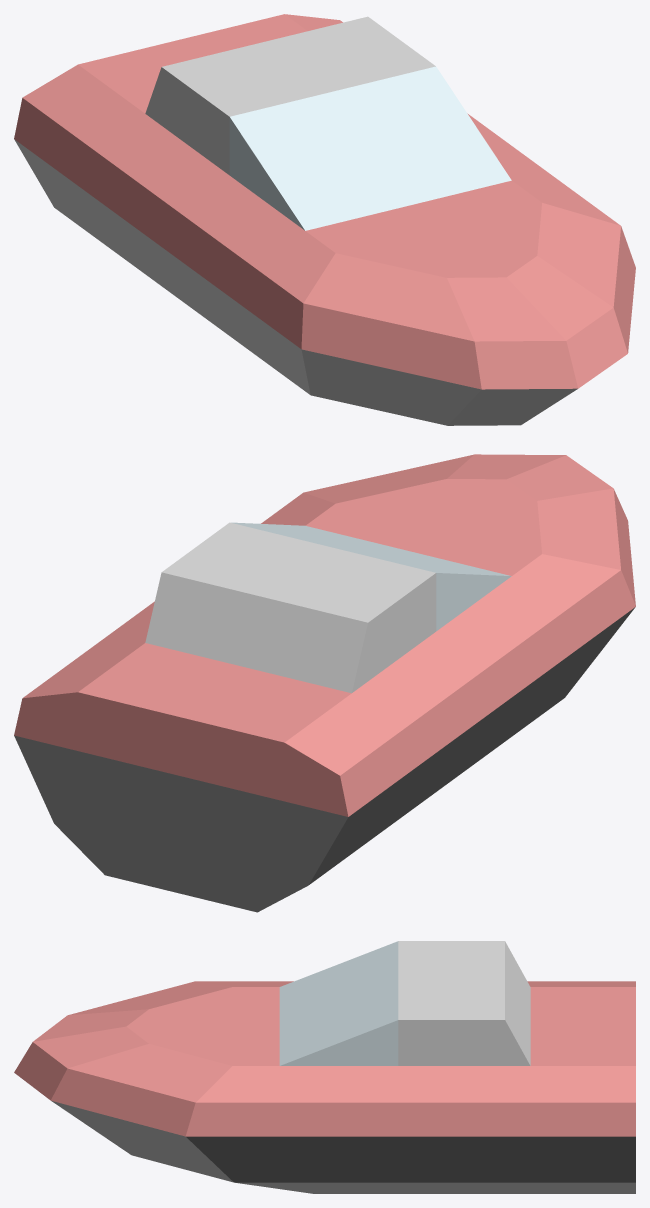
File: watercraftPack_019.glb
3 views of the same model, one above another, from view 1: azimuth 30°, elevation 25°; view 2: azimuth 150°, elevation 25°; view 3: azimuth 270°, elevation 25° (orthographic). The views are drawn at different scales.
Visible parts, largest first — view 1: Mesh1 Group1 Model; view 2: Mesh1 Group1 Model; view 3: Mesh1 Group1 Model.
Part boxes in pixels (left/top/right/bottom): Mesh1 Group1 Model: left=14, top=14, right=635, bottom=425; Mesh1 Group1 Model: left=14, top=454, right=635, bottom=912; Mesh1 Group1 Model: left=14, top=941, right=635, bottom=1193.
Size of the model in its own units: 1.78 by 1.2 by 3.67.
